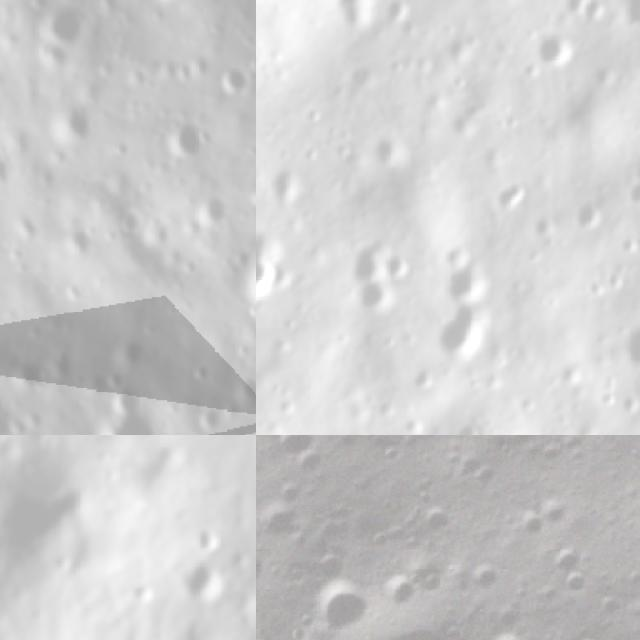crater: (296, 557, 390, 640), (356, 594, 499, 640), (537, 529, 598, 589), (32, 0, 98, 55), (175, 558, 238, 612), (87, 391, 160, 435), (228, 235, 256, 332), (159, 106, 205, 164), (47, 94, 98, 146), (438, 304, 489, 356), (367, 121, 418, 172), (256, 435, 326, 471), (444, 251, 489, 305), (501, 504, 552, 550), (186, 182, 237, 226), (349, 272, 398, 317), (110, 334, 158, 373), (490, 174, 528, 220), (269, 158, 307, 204), (553, 566, 594, 608), (150, 439, 190, 482), (41, 338, 78, 382), (475, 617, 544, 640), (537, 30, 576, 70), (110, 204, 152, 240), (256, 539, 280, 598), (188, 524, 224, 563), (568, 195, 602, 235), (191, 399, 225, 434), (409, 362, 438, 398), (0, 376, 17, 435), (381, 0, 413, 31), (62, 222, 89, 258), (385, 248, 411, 284), (442, 416, 491, 435), (256, 486, 272, 544), (233, 367, 256, 405), (622, 322, 640, 368), (618, 0, 640, 32), (564, 626, 613, 640), (581, 0, 612, 21), (620, 181, 640, 208)
